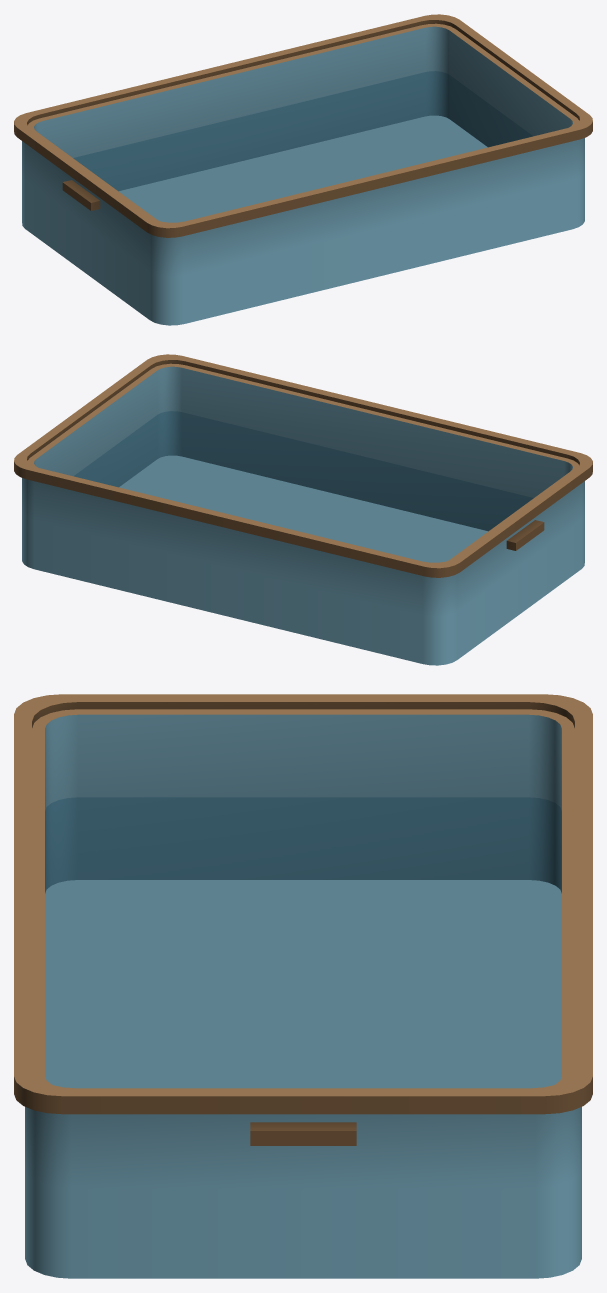
Rendered from kingyo_tub.glb.
The picture shows the model from 3 angles, top to bottom: view 1: azimuth 30°, elevation 25°; view 2: azimuth 150°, elevation 25°; view 3: azimuth 270°, elevation 25°; orthographic projection. The views are drawn at different scales.
Parts seen in each view (by area): view 1: tub; view 2: tub; view 3: tub.
Part boxes in pixels (box(x1,y1,x2,y2)): tub: box(14, 14, 592, 325); tub: box(14, 354, 592, 665); tub: box(14, 694, 592, 1278).
Bounding box in the file's own units: 1.47 × 0.312 × 0.8736.
